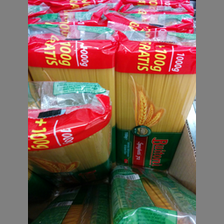pasta: (115, 34, 196, 170), (29, 79, 112, 185), (108, 164, 197, 224)
